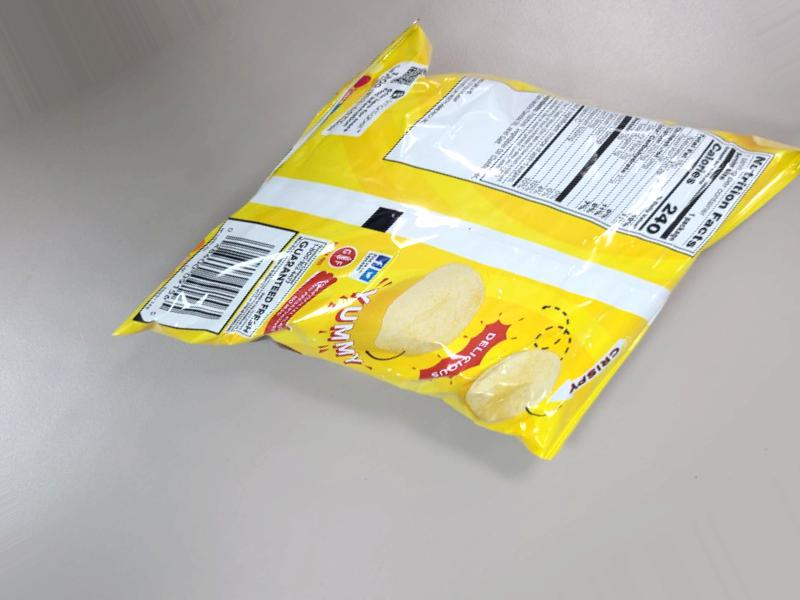lays: (135, 0, 760, 419)
